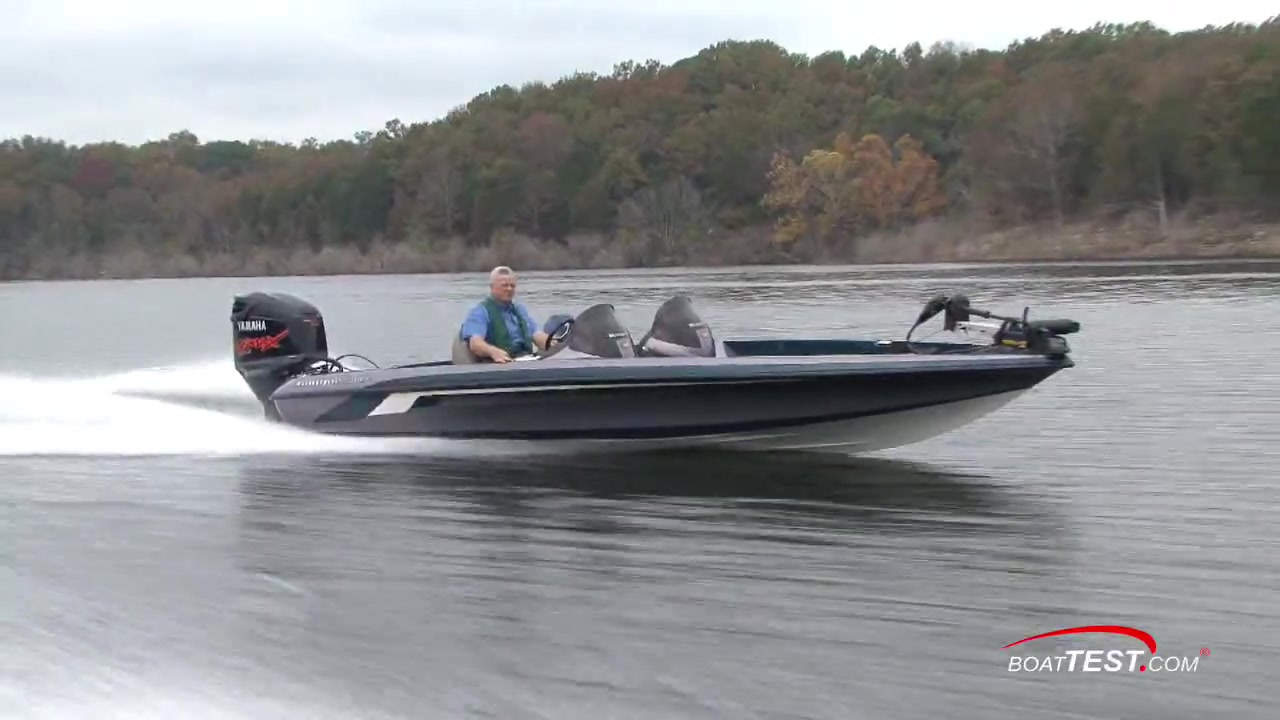boat: (229, 263, 1084, 457)
